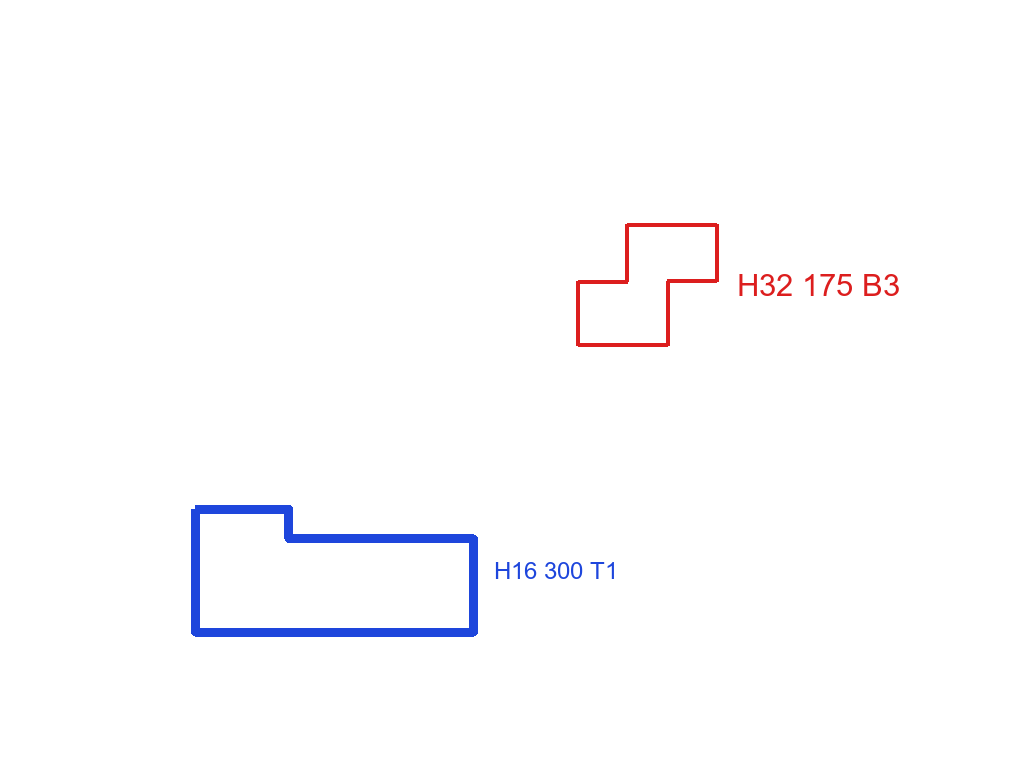shape: (189, 503, 480, 639), (574, 220, 721, 349)
text: (735, 272, 902, 298), (492, 560, 620, 581)
